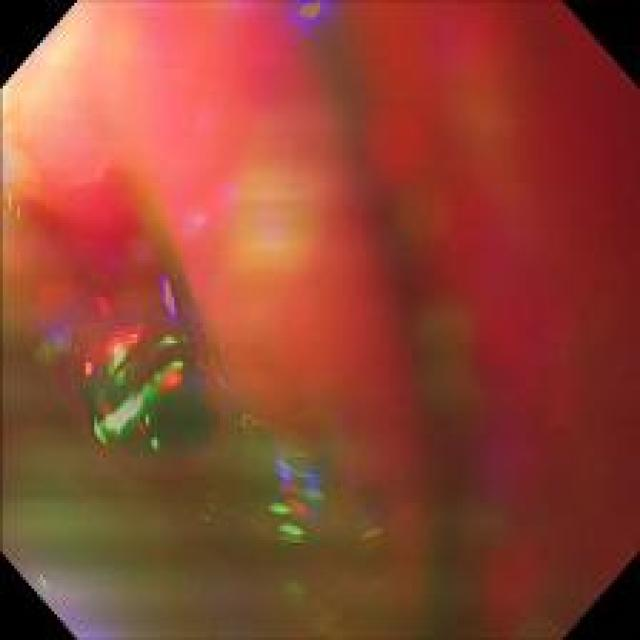bubbles: (86, 324, 232, 478)
color misalignment: (9, 11, 624, 625)
